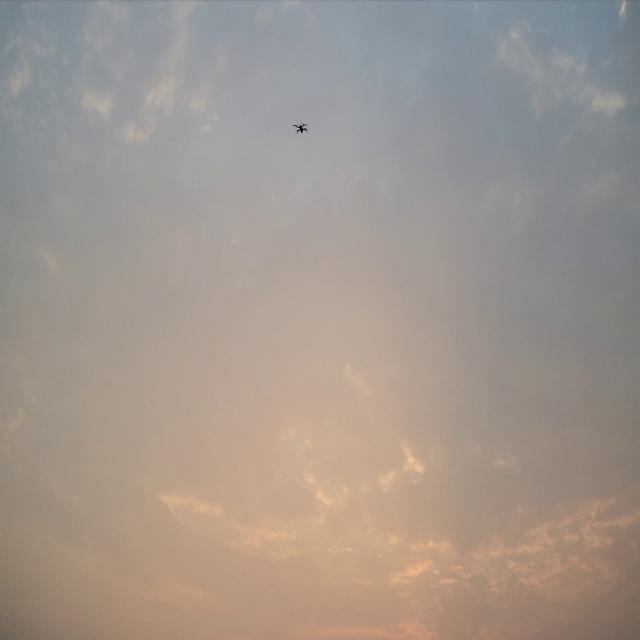UAV: (292, 122, 310, 134)
